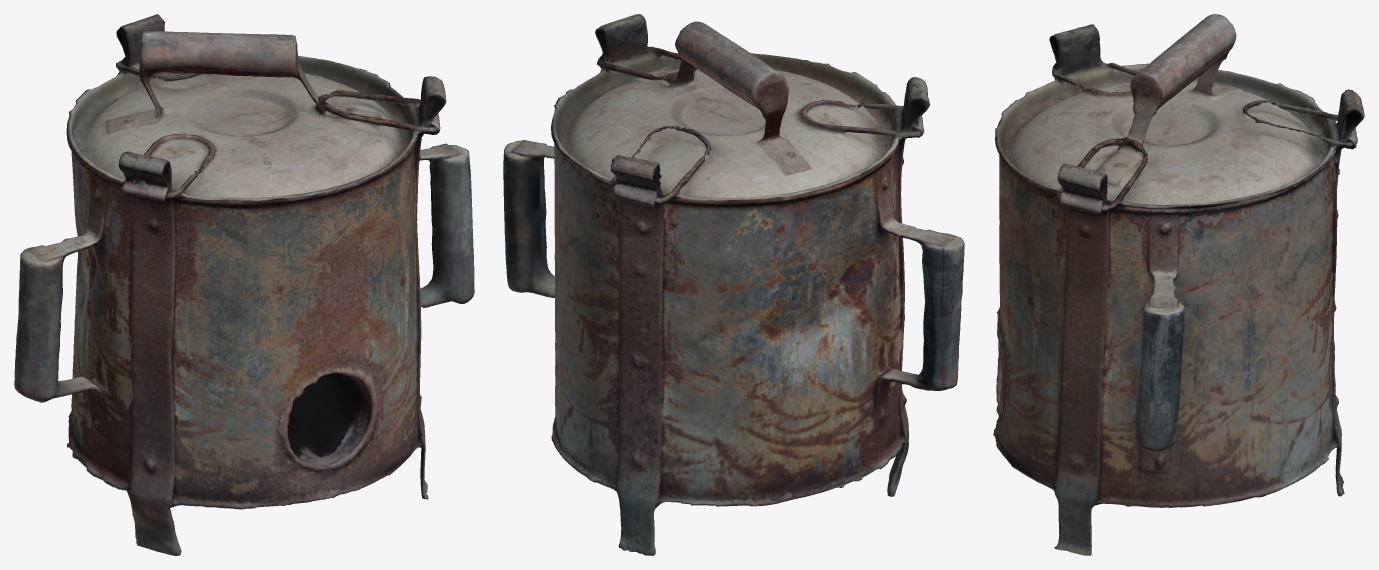
The model's file is OldFurnace1.fbx.
The picture shows the model from 3 angles, left to right: view 1: azimuth 30°, elevation 25°; view 2: azimuth 150°, elevation 25°; view 3: azimuth 270°, elevation 25°; orthographic projection. The views are drawn at different scales.
Parts seen in each view (by area): view 1: 3DModel_Custom; view 2: 3DModel_Custom; view 3: 3DModel_Custom.
Part boxes in pixels (x1,y1,x2,y2): 3DModel_Custom: [14, 14, 474, 555]; 3DModel_Custom: [503, 14, 964, 555]; 3DModel_Custom: [993, 14, 1364, 555].
Bounding box in the file's own units: 69.35 × 66.5 × 50.93.
Materials: 1 (1 with a texture image).
